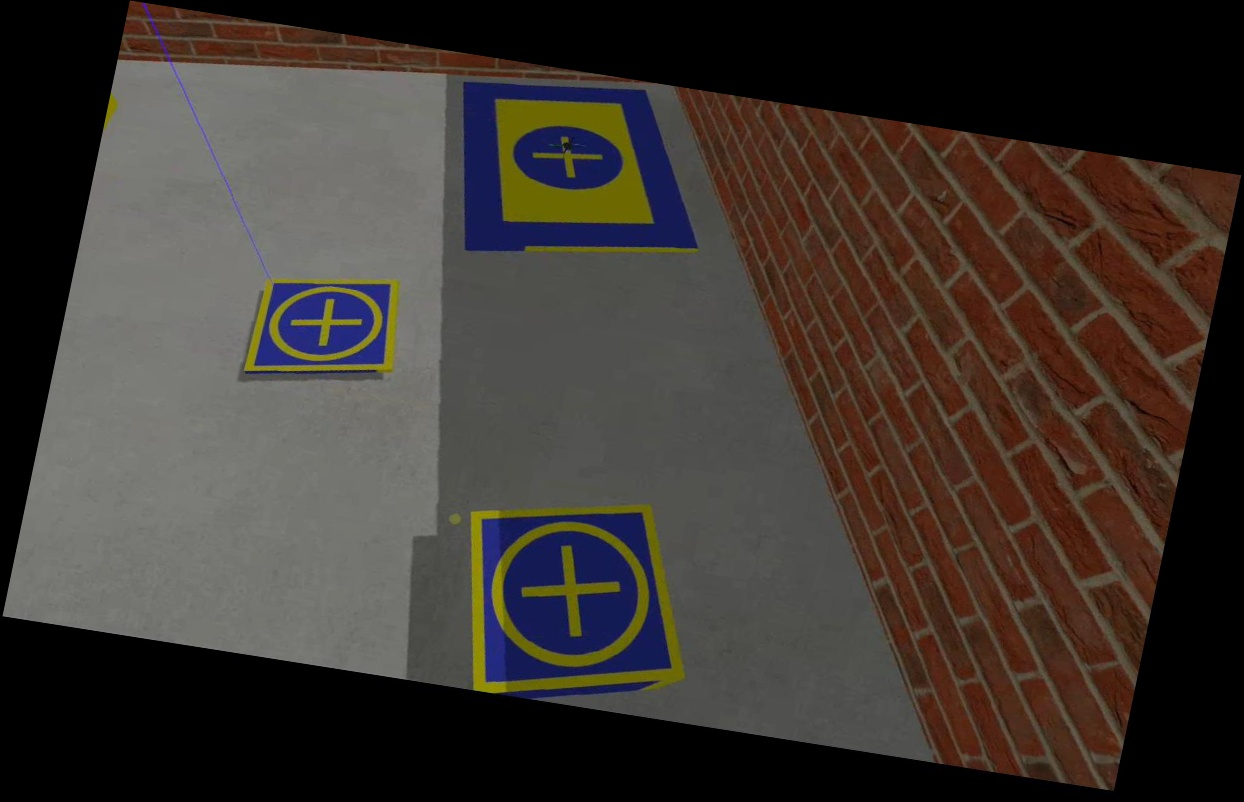large_base: (428, 66, 724, 287)
small_base: (434, 480, 719, 722), (232, 260, 408, 395)
